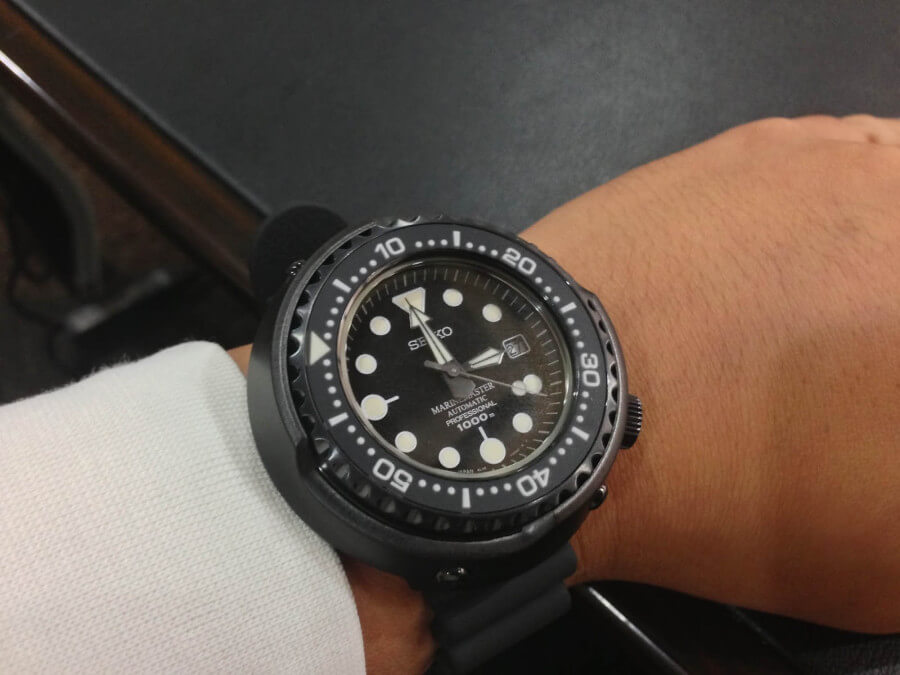clock: (246, 212, 632, 570)
